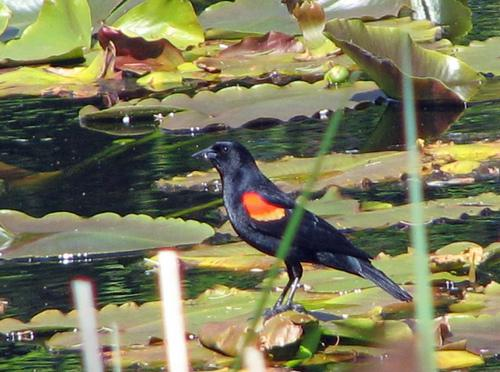010.Red_winged_Blackbird: (190, 137, 412, 320)
